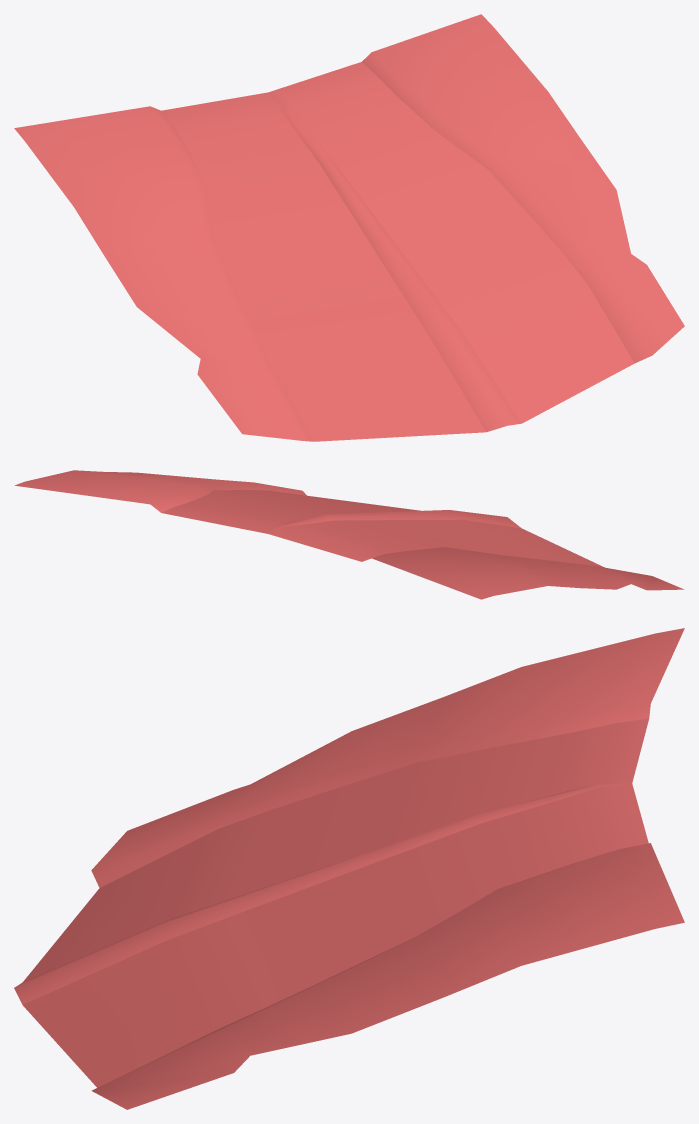
Rendered from Car2_Skull_Plane.fbx.
3 views of the same model, one above another, from view 1: azimuth 30°, elevation 25°; view 2: azimuth 150°, elevation 25°; view 3: azimuth 270°, elevation 25° (orthographic). The views are drawn at different scales.
Visible parts, largest first — view 1: Car2_Skull_Plane; view 2: Car2_Skull_Plane; view 3: Car2_Skull_Plane.
Boxes of the visible parts, bbox=[...] form: Car2_Skull_Plane: bbox=[14, 14, 684, 441]; Car2_Skull_Plane: bbox=[14, 470, 684, 599]; Car2_Skull_Plane: bbox=[14, 628, 684, 1109].
Bounding box in the file's own units: 112 × 38.19 × 105.
